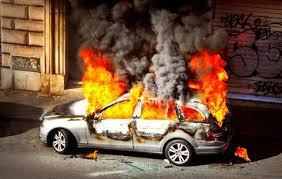fire: (74, 48, 138, 117), (183, 48, 230, 126), (229, 143, 252, 163)
